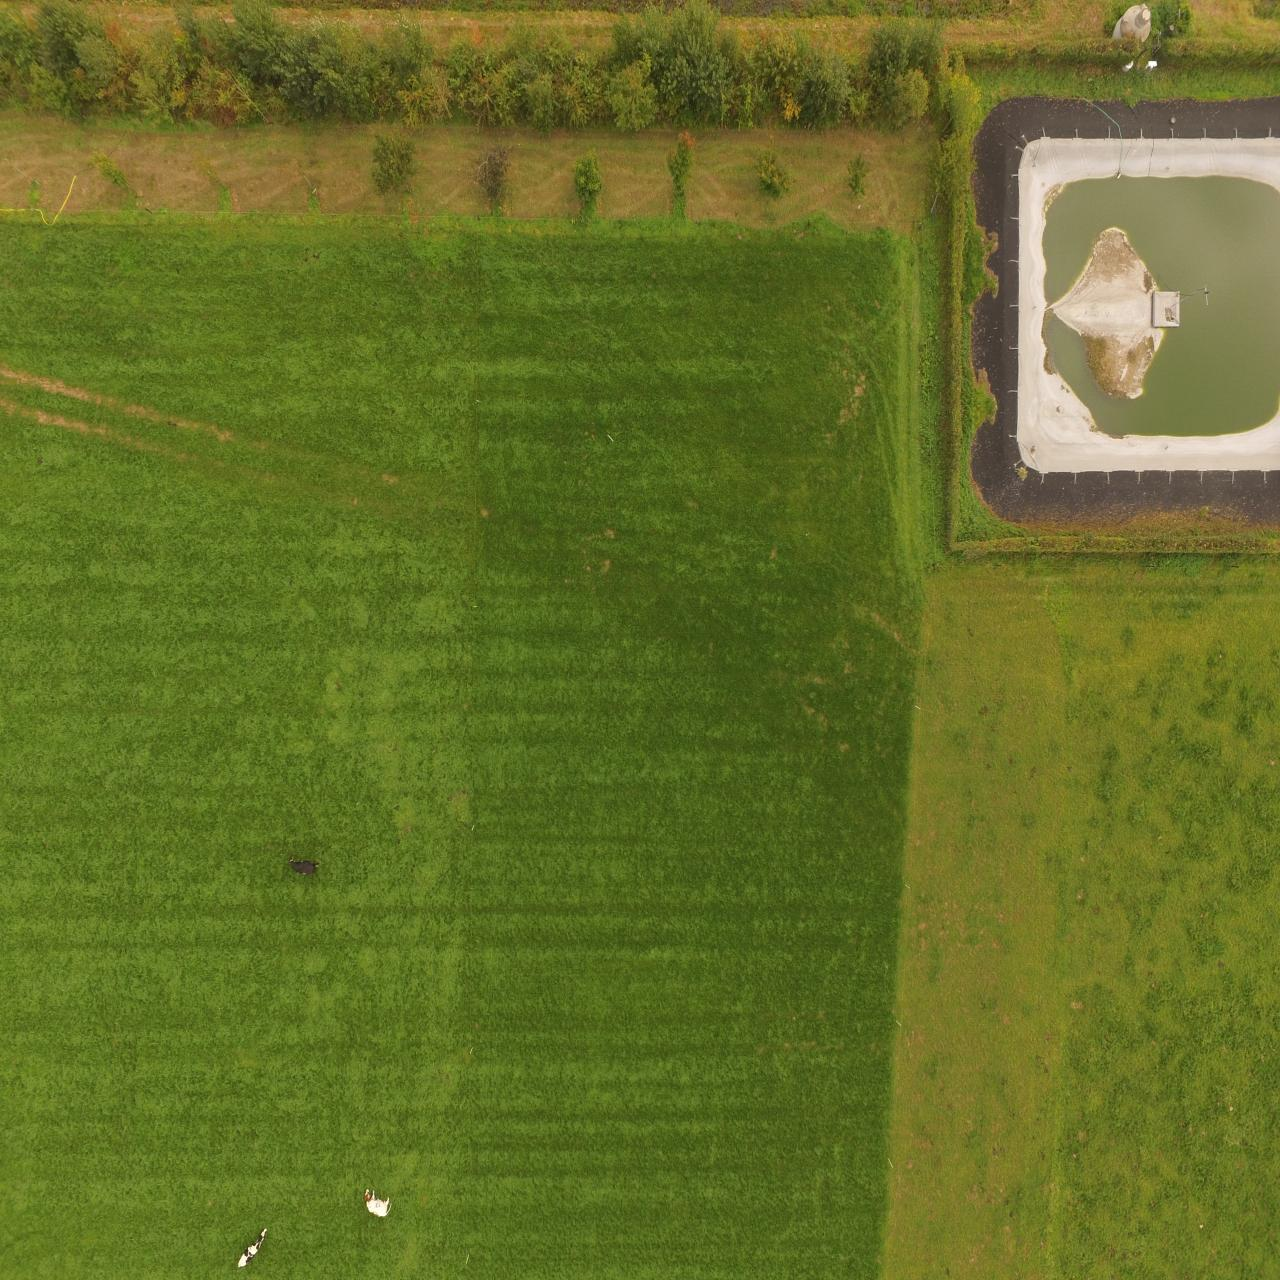cow: (237, 1227, 266, 1269), (363, 1187, 393, 1219), (287, 856, 324, 880)
